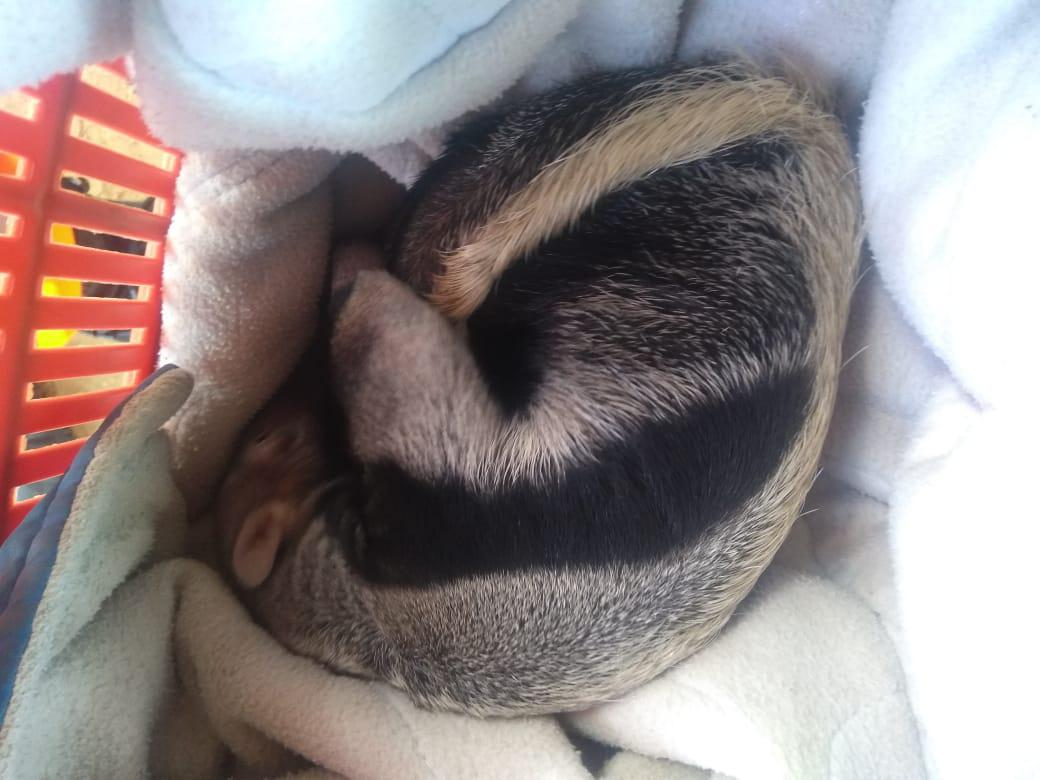TamanduaBandeira: (213, 66, 873, 730)
